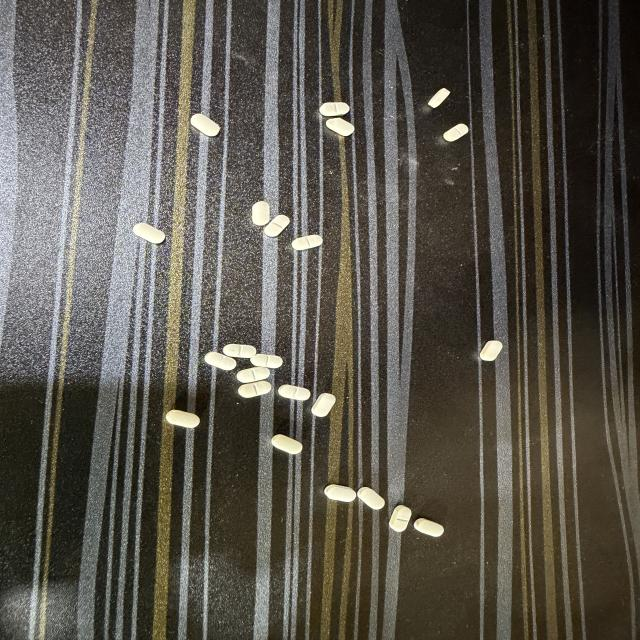pill: (133, 223, 165, 244), (191, 114, 220, 136), (389, 505, 411, 532), (358, 487, 385, 509), (166, 410, 199, 428), (312, 393, 336, 417), (264, 215, 290, 237), (272, 435, 302, 454), (205, 352, 236, 370), (237, 367, 270, 383), (325, 485, 356, 502), (414, 518, 443, 536), (239, 381, 271, 397), (326, 118, 354, 136), (279, 385, 310, 400), (480, 340, 502, 361), (223, 344, 256, 358), (292, 235, 322, 250), (252, 201, 270, 226), (251, 354, 282, 368), (443, 124, 468, 141), (428, 88, 450, 107), (319, 103, 349, 116)
